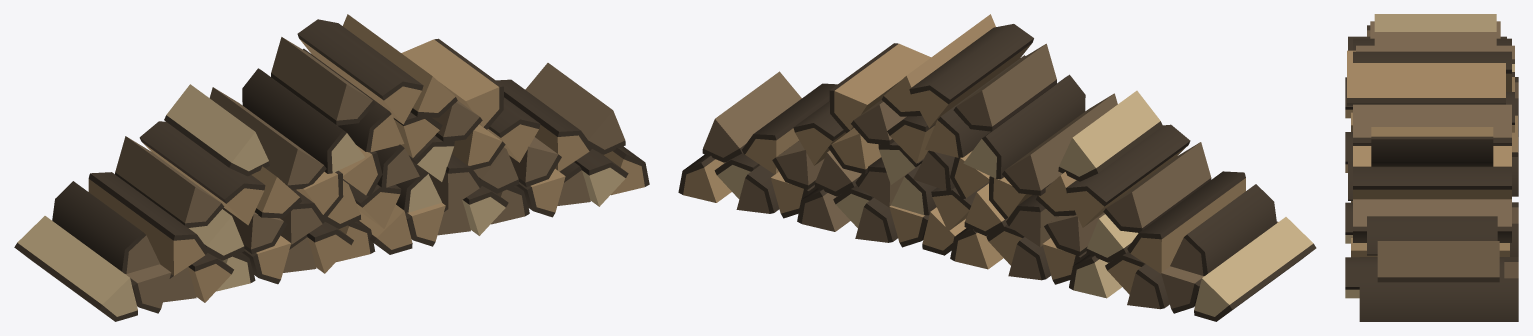
Rendered from SM_Prop_Wood_Pile_01.fbx.
The picture shows the model from 3 angles, left to right: view 1: azimuth 30°, elevation 25°; view 2: azimuth 150°, elevation 25°; view 3: azimuth 270°, elevation 25°; orthographic projection. The views are drawn at different scales.
Parts seen in each view (by area): view 1: SM_Prop_Wood_Pile_01; view 2: SM_Prop_Wood_Pile_01; view 3: SM_Prop_Wood_Pile_01.
Part boxes in pixels (<box>): SM_Prop_Wood_Pile_01: <box>14,14,649,321</box>; SM_Prop_Wood_Pile_01: <box>678,14,1316,321</box>; SM_Prop_Wood_Pile_01: <box>1345,14,1518,321</box>.
Bounding box in the file's own units: 457 × 136 × 132.
1 material, 1 textured.
